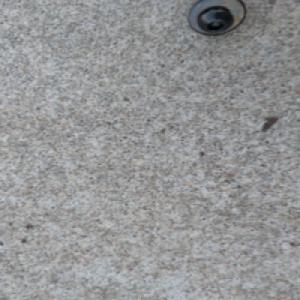BoltWasher: (186, 0, 249, 36)
